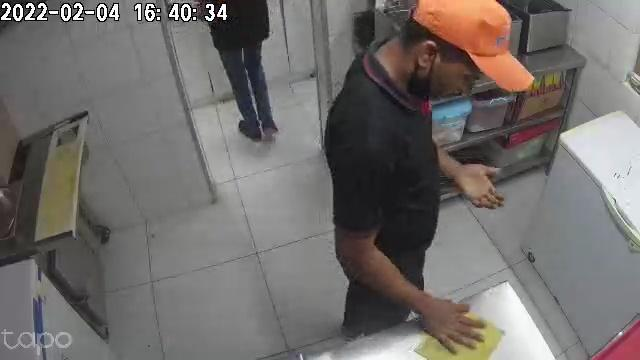no_gloves: (451, 161, 503, 210)
